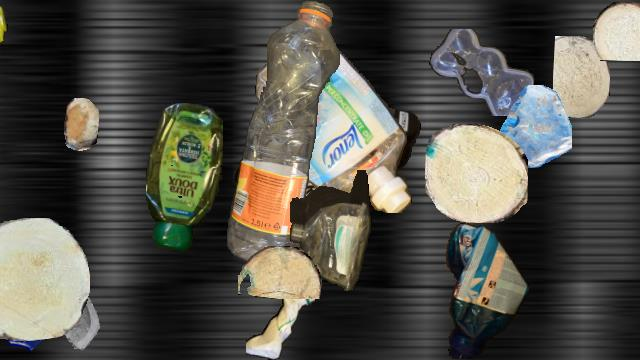glass: (489, 85, 571, 167), (37, 282, 113, 358), (0, 288, 59, 350)
plastic: (227, 1, 339, 265), (254, 40, 414, 212), (233, 111, 421, 247), (440, 221, 528, 359), (146, 103, 222, 251), (290, 170, 372, 292), (429, 29, 535, 115), (246, 275, 314, 359), (0, 1, 8, 79)
wood: (0, 218, 89, 340), (425, 124, 527, 222), (553, 36, 609, 118), (238, 246, 322, 298), (593, 2, 640, 60), (64, 98, 98, 150)
